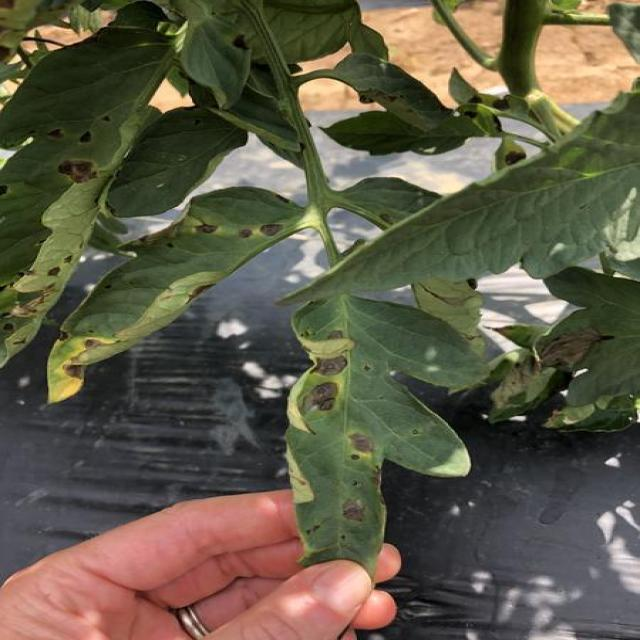Early Blight: (65, 278, 347, 486), (238, 42, 455, 298)
